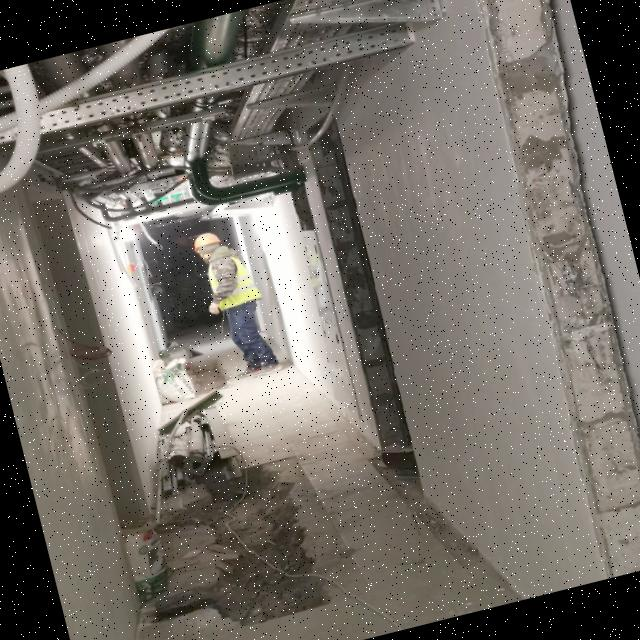Helmet: (191, 231, 224, 255)
Jacket: (203, 252, 259, 314)
